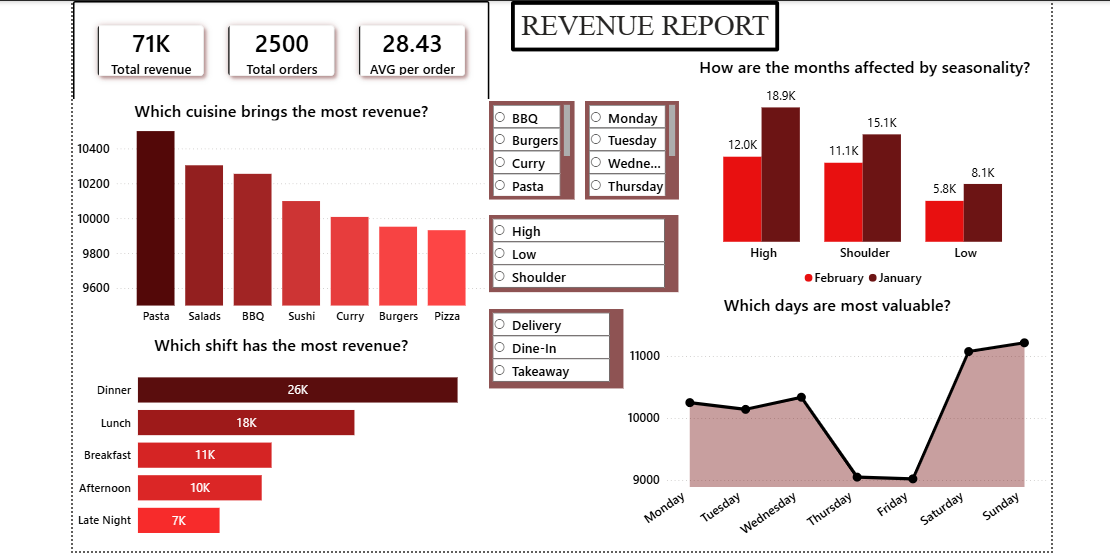

The page's visual inventory and layout, read from the dashboard file:
{"tool":"powerbi","page":{"name":"revenue dash","canvas":[1280,720],"ordinal":0},"visuals":[{"type":"cardVisual","fields":{"Data":["Hospitality_Dataset_Food_Service.total revenue","Hospitality_Dataset_Food_Service.Total orders","Hospitality_Dataset_Food_Service.AVG per order"]},"box":[0,0,545.1,130.8],"z":0},{"type":"clusteredColumnChart","title":"Which cuisine brings the most revenue?","fields":{"Y":["Hospitality_Dataset_Food_Service.total revenue"],"Category":["Hospitality_Dataset_Food_Service.cuisine"]},"box":[0,127.9,545.6,304.4],"z":1000},{"type":"clusteredColumnChart","title":"How are the months affected by seasonality?","fields":{"Category":["Hospitality_Dataset_Food_Service.season"],"Y":["Hospitality_Dataset_Food_Service.total revenue"],"Series":["Hospitality_Dataset_Food_Service.month_name"]},"box":[793.5,70.5,486.4,311.5],"z":2000},{"type":"clusteredBarChart","title":"Which shift has the most revenue?","fields":{"Category":["Hospitality_Dataset_Food_Service.time_of_day"],"Y":["Hospitality_Dataset_Food_Service.total revenue"]},"box":[0,434.9,545.1,285.1],"z":3000},{"type":"areaChart","title":"Which days are most valuable?","fields":{"Category":["Hospitality_Dataset_Food_Service.day_of_week"],"Y":["Hospitality_Dataset_Food_Service.total revenue"]},"box":[721.5,382,558.4,338],"z":4000},{"type":"textbox","box":[573.1,0,351.2,66.1],"z":5000},{"type":"listSlicer","fields":{"Values":["Hospitality_Dataset_Food_Service.day_of_week"]},"box":[670,130.8,123.4,129.3],"z":6000},{"type":"listSlicer","fields":{"Values":["Hospitality_Dataset_Food_Service.cuisine"]},"box":[545.1,130.8,111.7,129.3],"z":7000},{"type":"listSlicer","fields":{"Values":["Hospitality_Dataset_Food_Service.season"]},"box":[545.1,280.7,248.3,101.4],"z":8000},{"type":"listSlicer","fields":{"Values":["Hospitality_Dataset_Food_Service.channel"]},"box":[545.1,402.6,176.3,104.3],"z":8001}]}

Visuals, with their boxes on the page's 1280x720 design canvas (x1, y1, x2, y2). These are canvas units, not pixel positions in the 1110x555 screenshot, which may show the page scaled, cropped or inside an application window:
cardVisual - Hospitality_Dataset_Food_Service.total revenue x Hospitality_Dataset_Food_Service.Total orders: (left=0, top=0, right=545, bottom=131)
"Which cuisine brings the most revenue?" clusteredColumnChart: (left=0, top=128, right=546, bottom=432)
"How are the months affected by seasonality?" clusteredColumnChart: (left=794, top=70, right=1280, bottom=382)
"Which shift has the most revenue?" clusteredBarChart: (left=0, top=435, right=545, bottom=720)
"Which days are most valuable?" areaChart: (left=722, top=382, right=1280, bottom=720)
textbox: (left=573, top=0, right=924, bottom=66)
listSlicer - Hospitality_Dataset_Food_Service.day_of_week: (left=670, top=131, right=793, bottom=260)
listSlicer - Hospitality_Dataset_Food_Service.cuisine: (left=545, top=131, right=657, bottom=260)
listSlicer - Hospitality_Dataset_Food_Service.season: (left=545, top=281, right=793, bottom=382)
listSlicer - Hospitality_Dataset_Food_Service.channel: (left=545, top=403, right=721, bottom=507)
